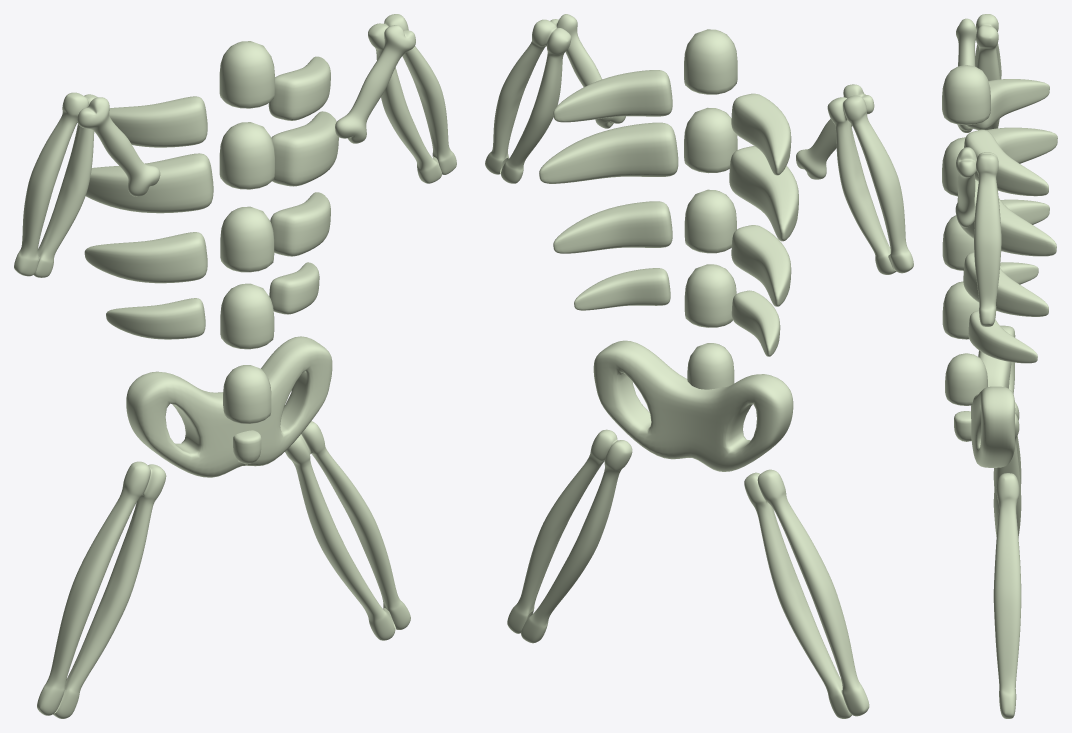
File: ChickenBone.fbx
3 views of the same model, side by side, from view 1: azimuth 30°, elevation 25°; view 2: azimuth 150°, elevation 25°; view 3: azimuth 270°, elevation 25° (orthographic). The views are drawn at different scales.
Visible parts, largest first — view 1: C_ChickenBone; view 2: C_ChickenBone; view 3: C_ChickenBone.
Part boxes in pixels (x1=…): C_ChickenBone: x1=14, y1=14, x2=456, y2=718; C_ChickenBone: x1=485, y1=14, x2=913, y2=718; C_ChickenBone: x1=942, y1=14, x2=1057, y2=718.
Size of the model in its own units: 2.92 by 4.13 by 0.7471.
